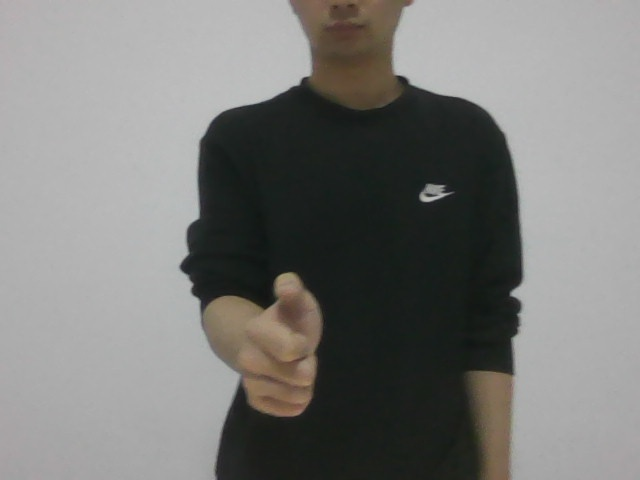thank you: (236, 266, 335, 415)
